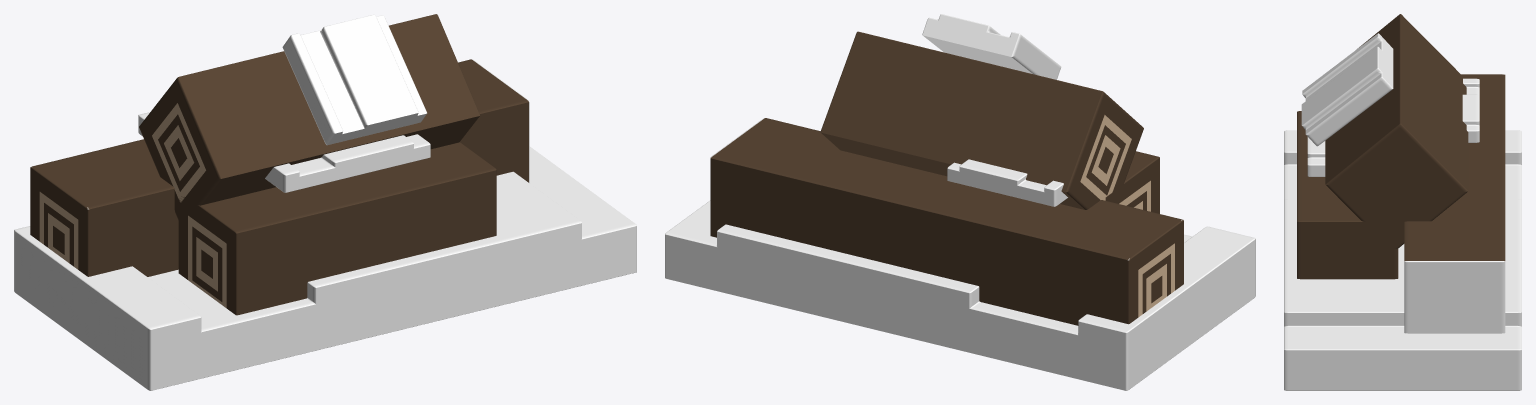
The picture shows the model from 3 angles, left to right: view 1: azimuth 30°, elevation 25°; view 2: azimuth 150°, elevation 25°; view 3: azimuth 270°, elevation 25°; orthographic projection. The views are drawn at different scales.
Visible parts, largest first — view 1: BipJamExport_log; view 2: BipJamExport_log; view 3: BipJamExport_log.
Part boxes in pixels (x1,y1,x2,y2): BipJamExport_log: [14, 14, 636, 390]; BipJamExport_log: [665, 14, 1255, 390]; BipJamExport_log: [1284, 14, 1521, 390].
Size of the model in its own units: 0.7994 by 0.4223 by 0.3879.
